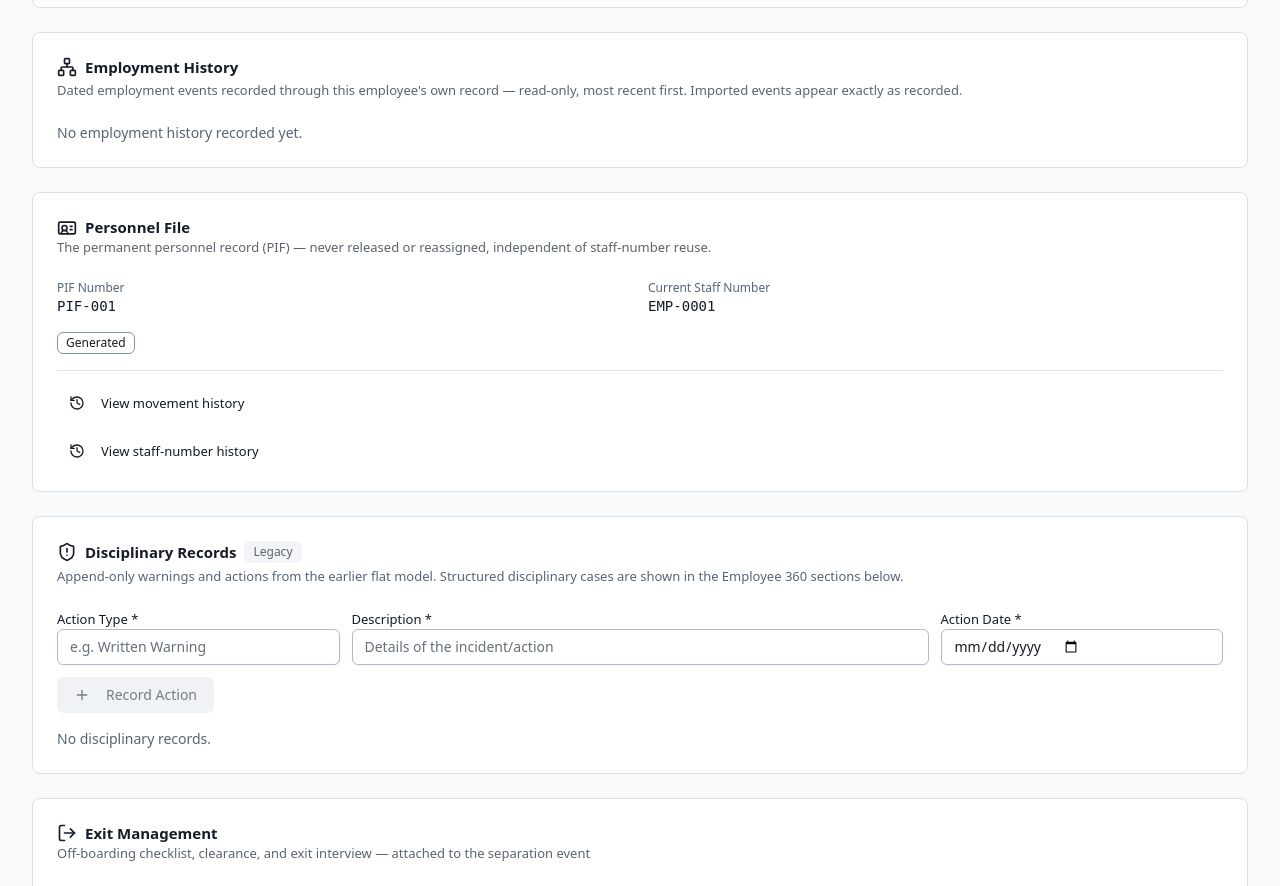
Scenario: Employee detail page › Personnel File card (Phase 3H, W115) › toggles and lists staff-number history, distinguishing current from released allocations
This screenshot has width=1280, height=886.
(page scrolled)
Click the button with test id "button-toggle-staff-number-history" at (164, 451), box x1=57 y1=435 x2=271 y2=467
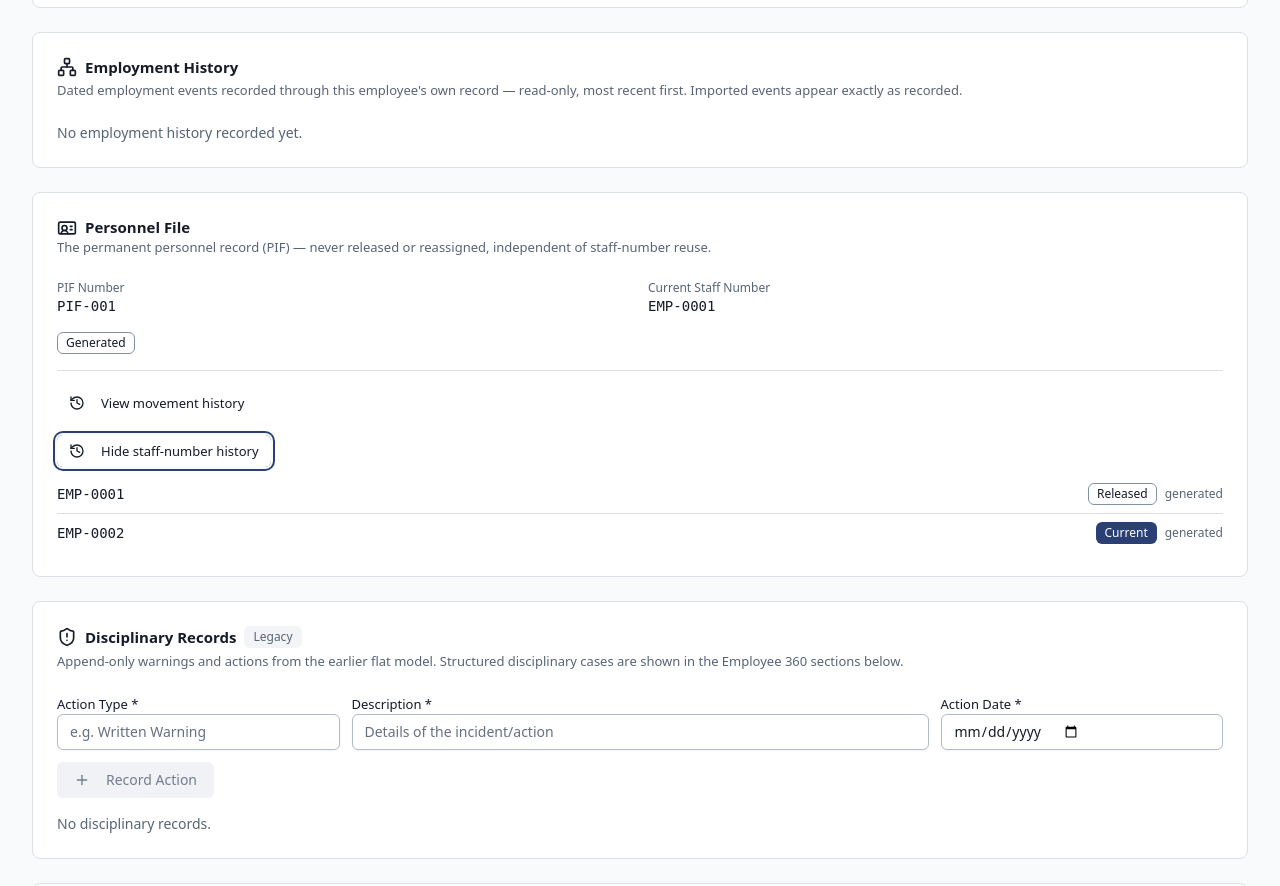
Expected: the text "Released" is shown, x1=1088 y1=483 x2=1157 y2=505
Expected: the text "Current" is shown, x1=1096 y1=522 x2=1157 y2=544
